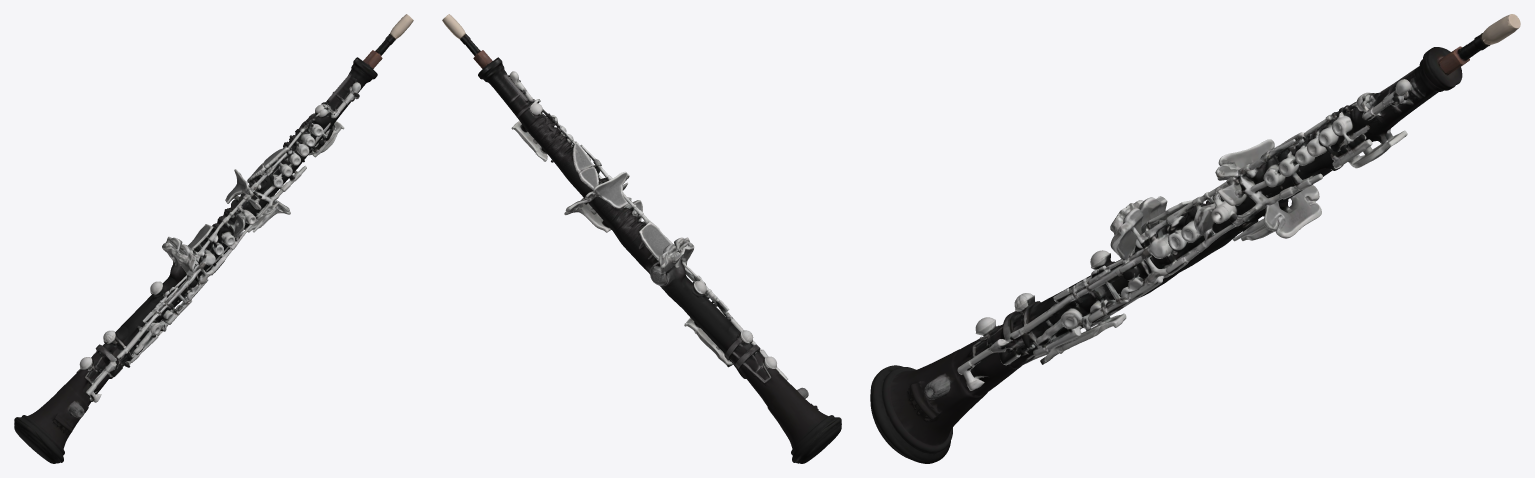
File: oboe.glb
The picture shows the model from 3 angles, left to right: view 1: azimuth 30°, elevation 25°; view 2: azimuth 150°, elevation 25°; view 3: azimuth 330°, elevation 25°; orthographic projection. The views are drawn at different scales.
Parts seen in each view (by area): view 1: tripo_node_a137a0a1-6ac4-4605-a2a0-f634f8295c07; view 2: tripo_node_a137a0a1-6ac4-4605-a2a0-f634f8295c07; view 3: tripo_node_a137a0a1-6ac4-4605-a2a0-f634f8295c07.
Boxes of the visible parts, x1,y1,x2,y2 form: tripo_node_a137a0a1-6ac4-4605-a2a0-f634f8295c07: (14,14,413,463); tripo_node_a137a0a1-6ac4-4605-a2a0-f634f8295c07: (442,14,841,463); tripo_node_a137a0a1-6ac4-4605-a2a0-f634f8295c07: (870,14,1520,463).
Size of the model in its own units: 0.9796 by 0.8547 by 0.1354.
1 material, 1 textured.
